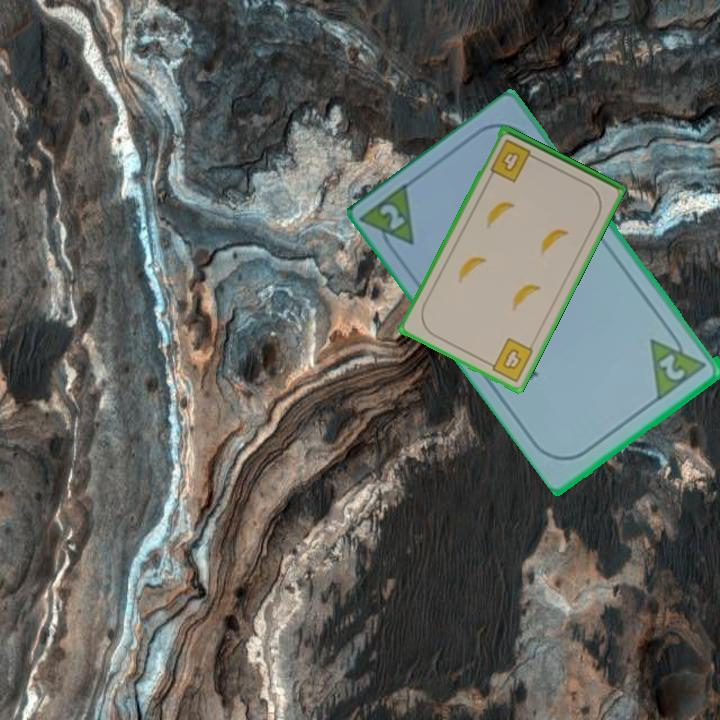2p: (646, 324, 710, 402), (360, 178, 418, 262)
4b: (482, 334, 536, 385), (487, 136, 540, 185)
